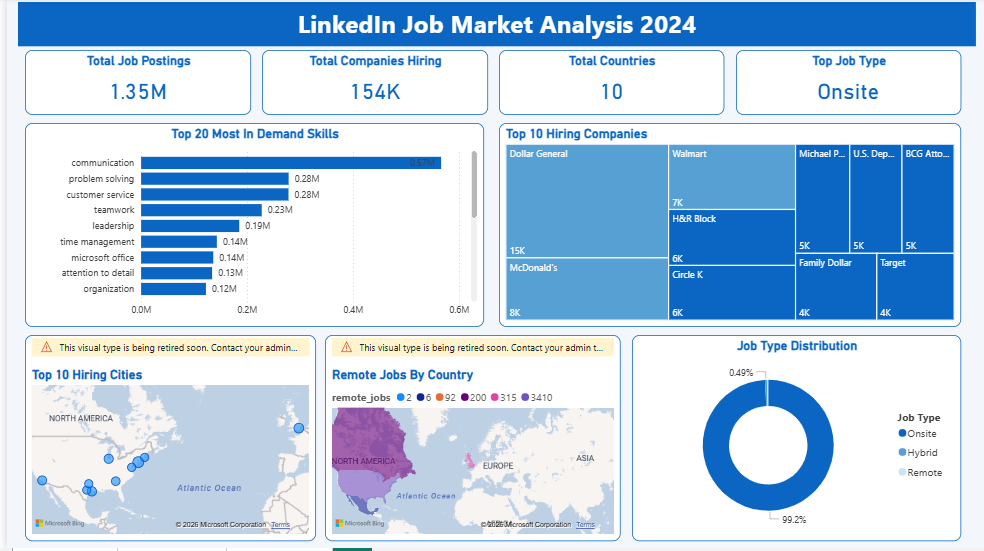

The dashboard page shown, as its layout file describes it:
{"tool":"powerbi","page":{"name":"Light Theme","canvas":[1280,720],"ordinal":1},"visuals":[{"type":"textbox","box":[14.4,5.2,1254.1,57.6],"z":0},{"type":"card","title":"Total Job Postings","fields":{"Values":["top_jobs.Total Job Postings"]},"box":[23.6,68.1,295.9,85.1],"z":1000},{"type":"card","title":"Total Companies Hiring","fields":{"Values":["Sum(top_companies.total_postings)"]},"box":[333.8,68.1,295.9,85.1],"z":2000},{"type":"card","title":"Total Countries","fields":{"Values":["CountNonNull(top_countries.country)"]},"box":[644.1,68.1,294.5,85.1],"z":3000},{"type":"card","title":"Top Job Type","fields":{"Values":["job_type_dist.Top Job Type"]},"box":[954.3,68.1,294.5,85.1],"z":4000},{"type":"clusteredBarChart","title":"Top 20 Most In Demand Skills","fields":{"Category":["top_skills.skill"],"Y":["Sum(top_skills.total_postings)"]},"box":[23.6,163.6,600.9,267.1],"z":5000},{"type":"donutChart","title":"Job Type Distribution","fields":{"Category":["job_type_dist.job_type"],"Y":["Sum(job_type_dist.total_postings)"]},"box":[818.2,441.2,430.7,269.7],"z":6000},{"type":"treemap","title":"Top 10 Hiring Companies","fields":{"Group":["top_companies_clean.company"],"Values":["Sum(top_companies_clean.total_postings)"]},"box":[644.1,163.6,604.8,267.1],"z":7000},{"type":"map","title":"Top 10 Hiring Cities","fields":{"Category":["top_cities.city"],"Size":["Sum(top_cities.total_postings)"]},"box":[23.6,441.2,380.9,269.7],"z":8000},{"type":"filledMap","title":"Remote Jobs By Country","fields":{"Category":["remote_by_country.country"],"Series":["remote_by_country.remote_jobs"]},"box":[416.3,441.2,387.5,269.7],"z":9000}]}

Visuals, with their boxes in screenshot pixels (x1, y1, x2, y2), scaled from the page's 1280x720 canvas onto the 984x551 screenshot:
textbox: (11,4,975,48)
"Total Job Postings" card: (18,52,246,117)
"Total Companies Hiring" card: (257,52,484,117)
"Total Countries" card: (495,52,722,117)
"Top Job Type" card: (734,52,960,117)
"Top 20 Most In Demand Skills" clusteredBarChart: (18,125,480,330)
"Job Type Distribution" donutChart: (629,338,960,544)
"Top 10 Hiring Companies" treemap: (495,125,960,330)
"Top 10 Hiring Cities" map: (18,338,311,544)
"Remote Jobs By Country" filledMap: (320,338,618,544)
